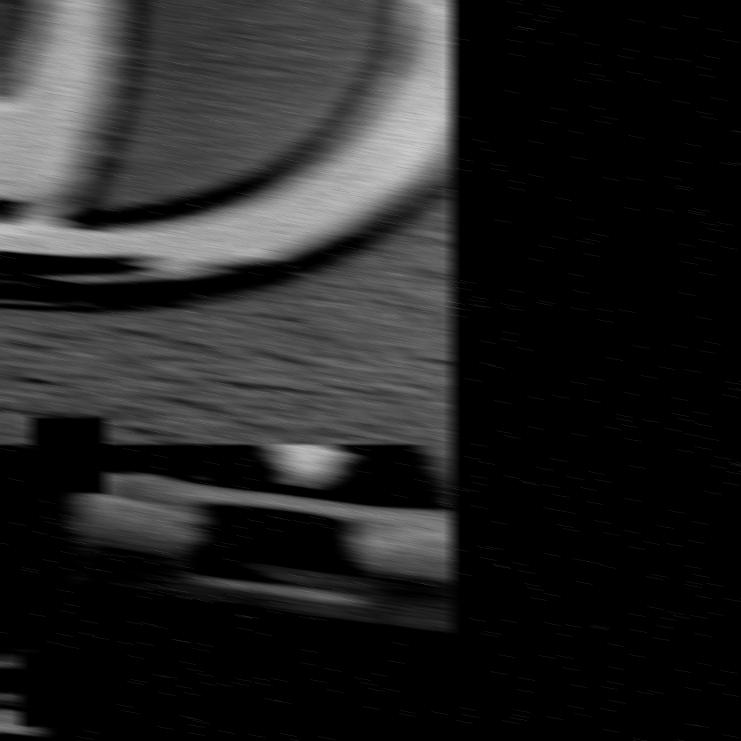Airbag: (0, 0, 454, 444), (0, 443, 454, 741)
